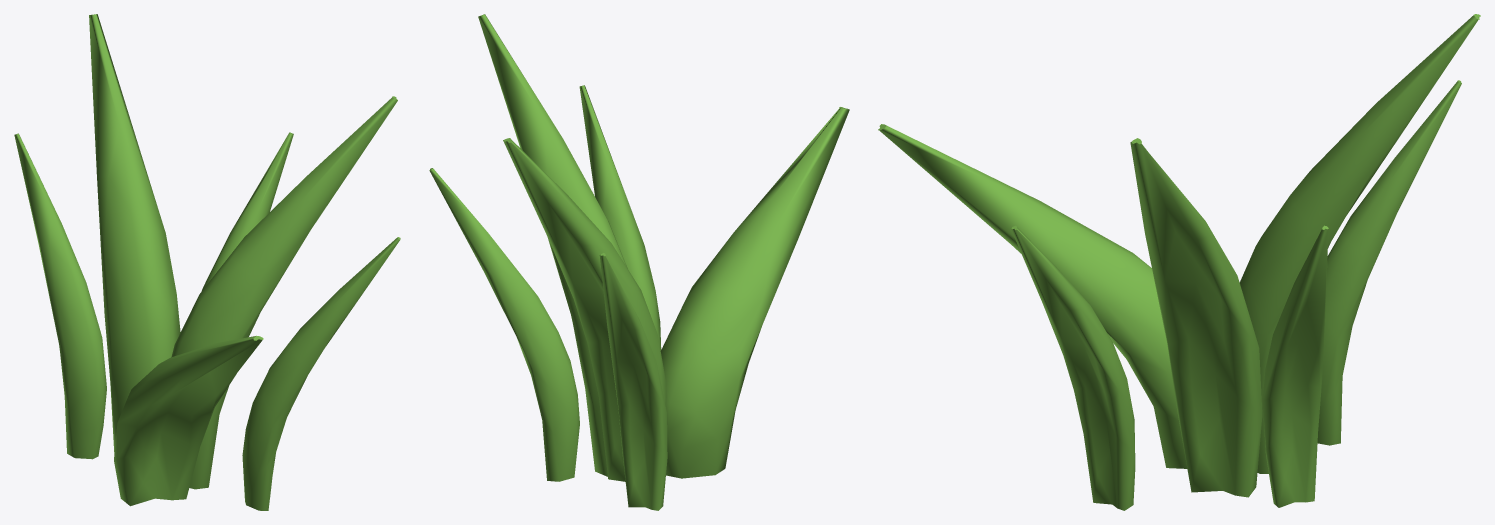
File: plant2.fbx
The picture shows the model from 3 angles, left to right: view 1: azimuth 30°, elevation 25°; view 2: azimuth 150°, elevation 25°; view 3: azimuth 270°, elevation 25°; orthographic projection. The views are drawn at different scales.
Visible parts, largest first — view 1: plant2.004; view 2: plant2.004; view 3: plant2.004.
Boxes of the visible parts, x1,y1,x2,y2 form: plant2.004: (14, 14, 400, 510); plant2.004: (429, 14, 849, 510); plant2.004: (878, 14, 1480, 510).
Size of the model in its own units: 96.29 by 136 by 155.
